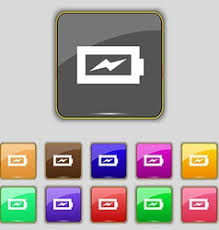charging sign: (66, 38, 153, 95)
